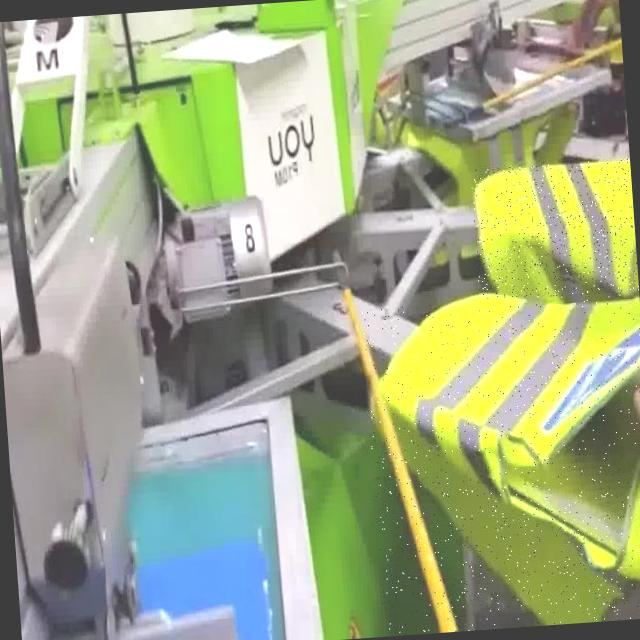vest: (361, 289, 640, 636), (470, 158, 640, 311)
